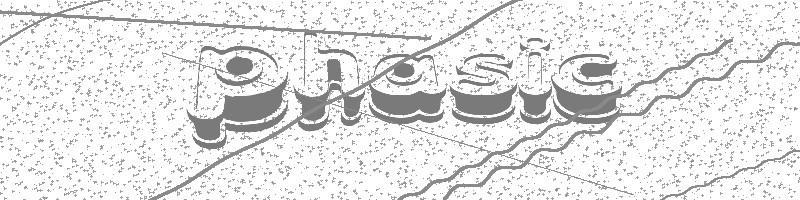a: (367, 53, 449, 126)
c: (553, 52, 622, 124)
h: (294, 30, 366, 132)
i: (519, 36, 553, 126)
p: (187, 44, 291, 150)
s: (450, 52, 517, 125)
